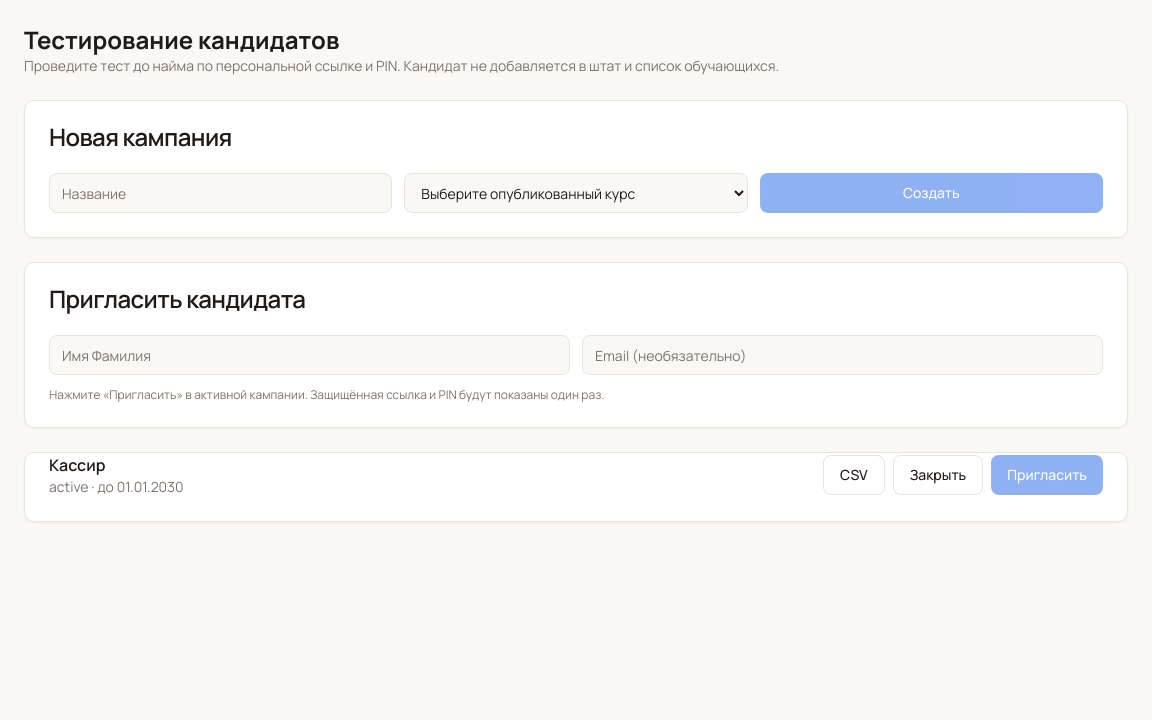
Test case: candidate assessments manager page › explains when the selected published release has no approved questions
Type "Проверка кассира" into the field named "Название кампании" at (221, 193), box [49,173,392,213]
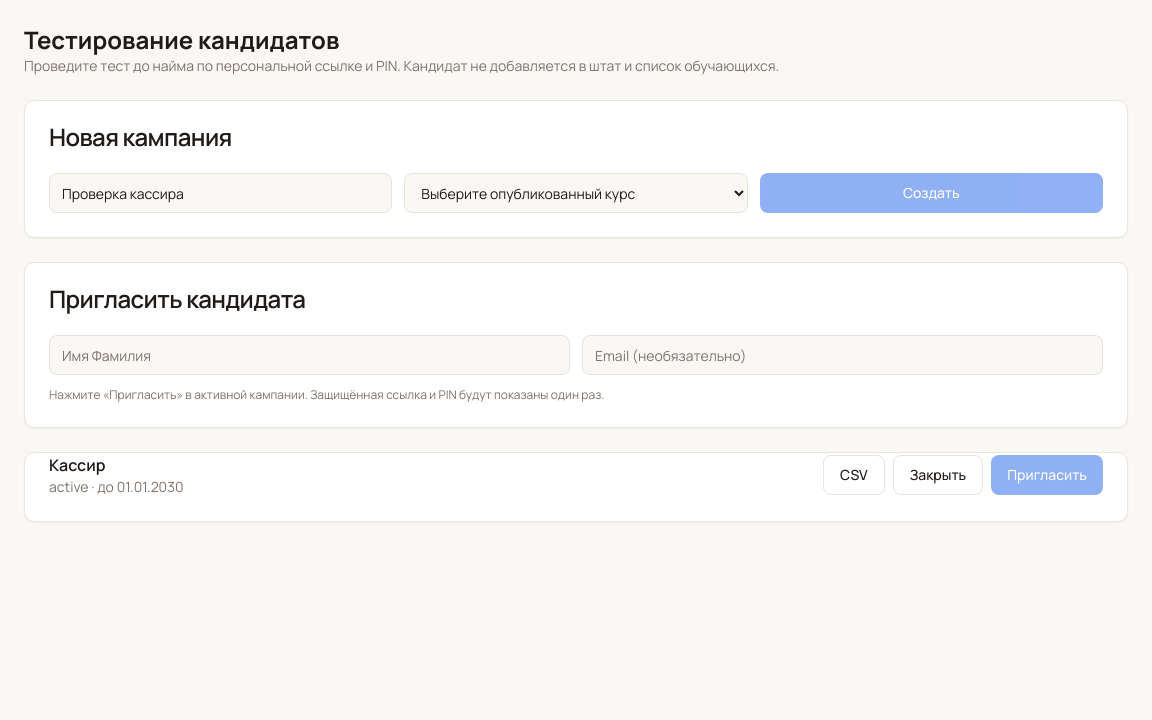
Select "Кассовая дисциплина" in the dropdown named "Опубликованный курс" at (576, 193), box [404,173,748,213]
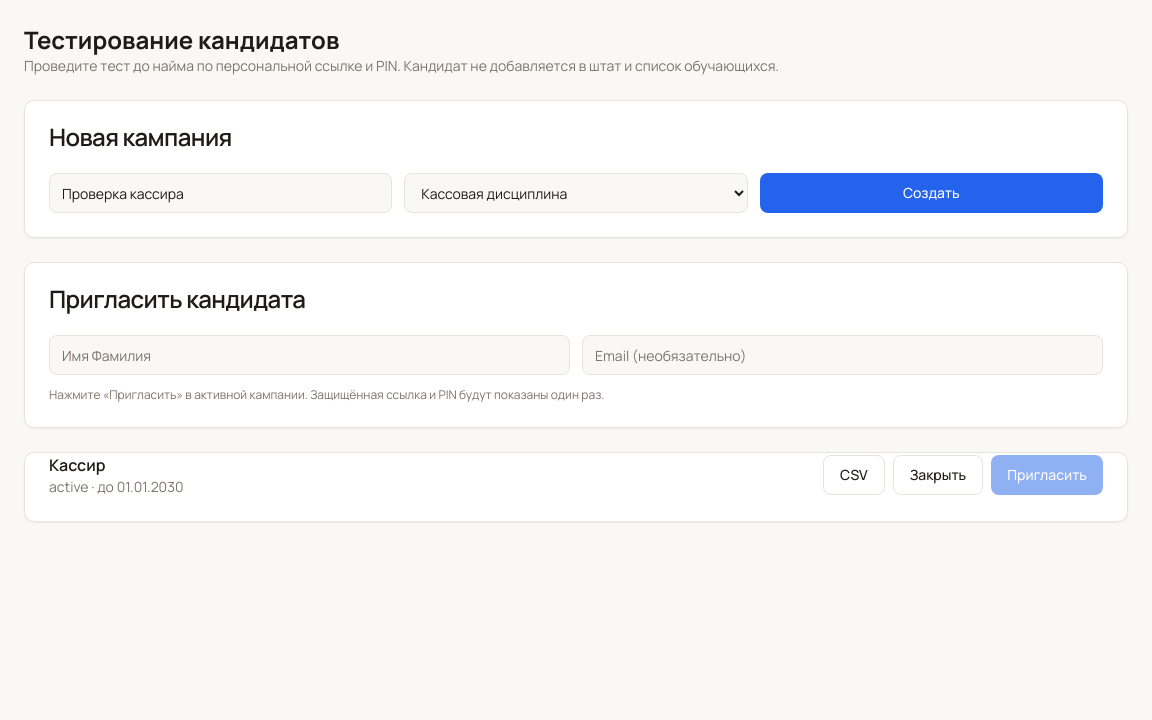
Click the button "Создать" at (931, 193), box [760,173,1103,213]
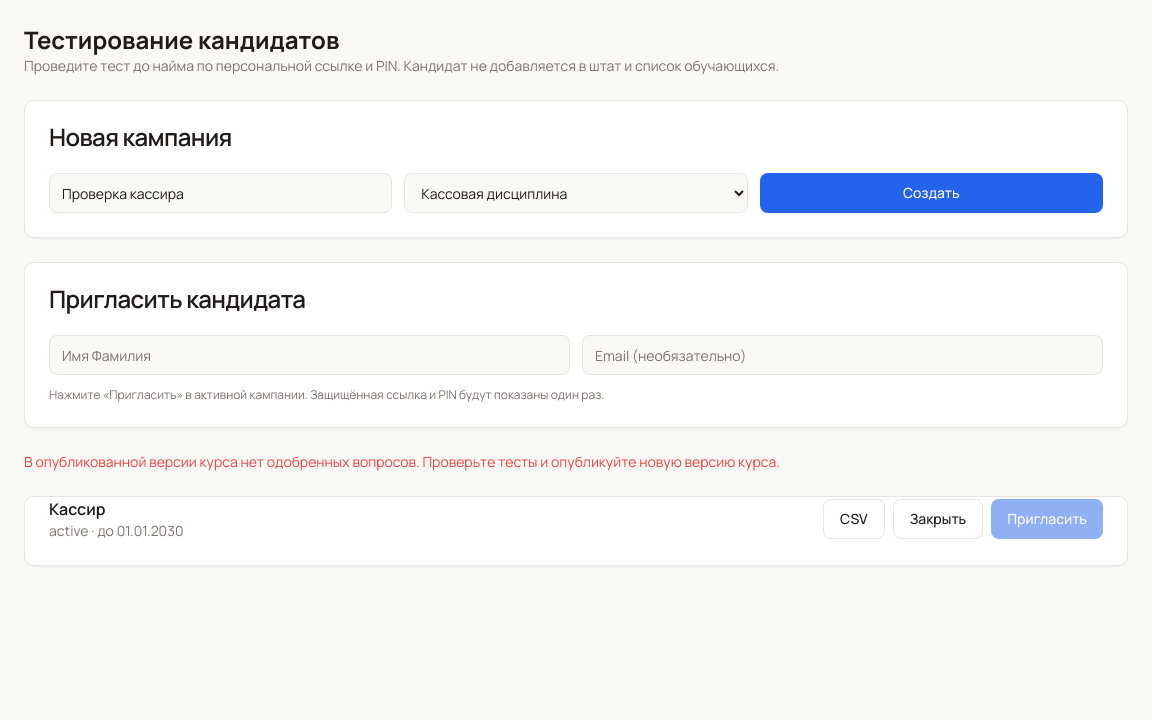
Now the message shows "В опубликованной версии курса нет одобренных вопросов. Проверьте тесты и опубликуйте новую версию курса.", box [24,452,780,471]
